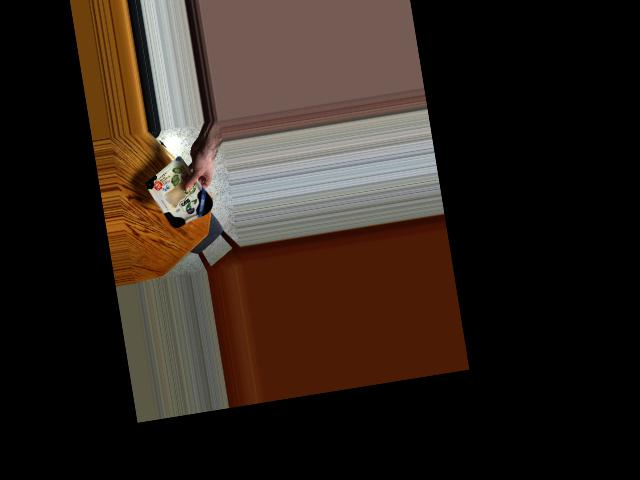cheese: (146, 158, 219, 231)
